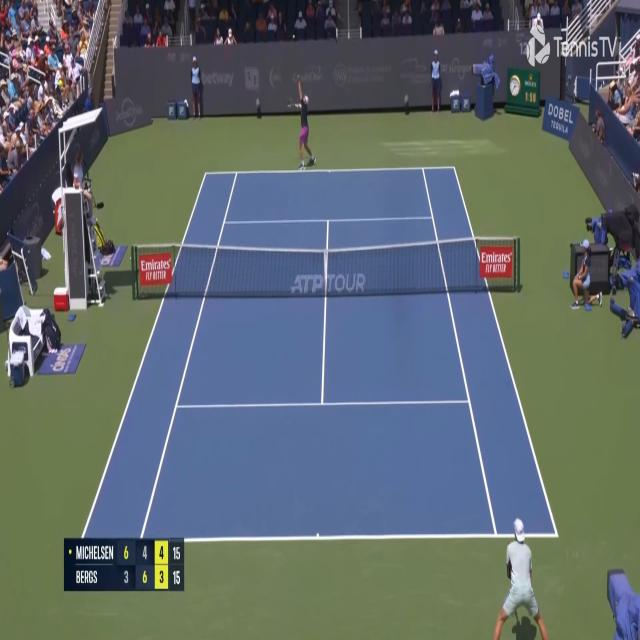tennis-player: (489, 515, 552, 639), (290, 92, 319, 169)
